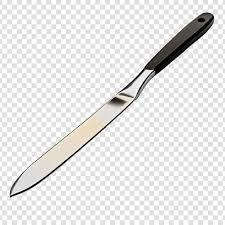Knife: (9, 11, 214, 197)
